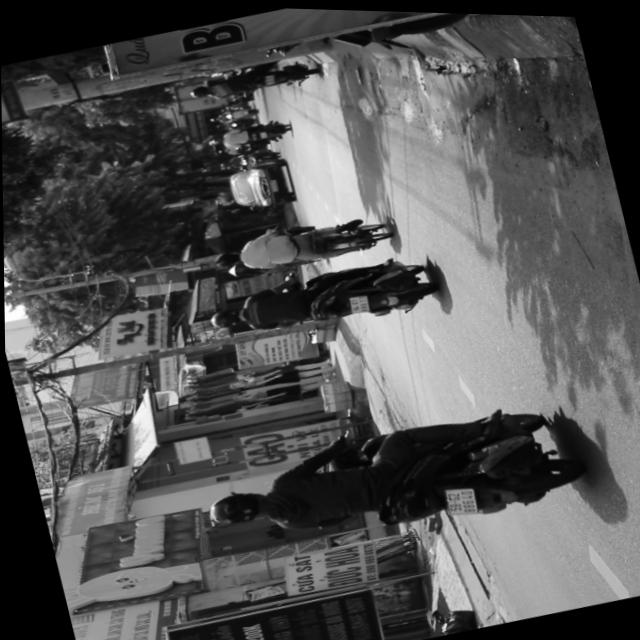helmet: (201, 484, 270, 532), (205, 305, 243, 332)
licenseplate: (190, 377, 595, 576), (199, 241, 443, 357), (205, 202, 393, 287)
nohelmet: (441, 484, 474, 517), (345, 292, 368, 312)
